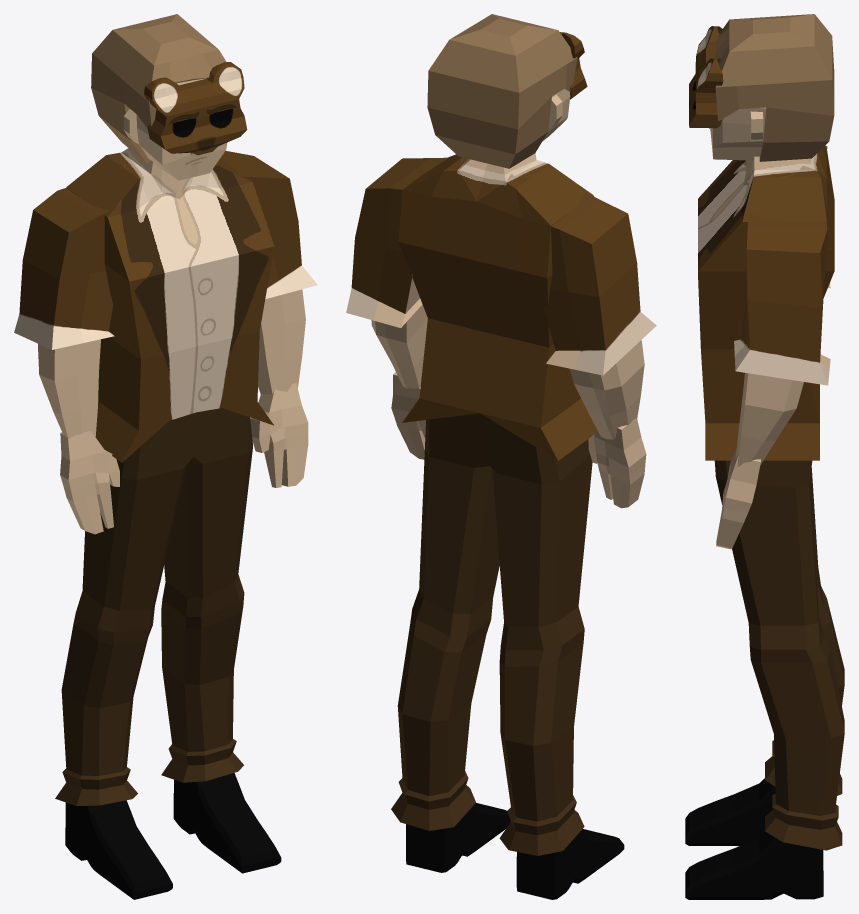
Rendered from Bearfull.fbx.
3 views of the same model, side by side, from view 1: azimuth 30°, elevation 25°; view 2: azimuth 150°, elevation 25°; view 3: azimuth 270°, elevation 25° (orthographic). The views are drawn at different scales.
Visible parts, largest first — view 1: Cube.005, Cube.006, Cube.008, Cube.003, Cube.001, Cube, Cube.004; view 2: Cube.005, Cube.006, Cube.008, Cube.001, Cube.003, Cube, Cube.004; view 3: Cube.005, Cube.006, Cube.008, Cube.001, Cube.003, Cube, Cube.004.
Boxes of the visible parts, box(x1,y1,x2,y2) form: Cube.005: box(55, 408, 252, 805); Cube.006: box(66, 148, 274, 462); Cube.008: box(14, 150, 317, 534); Cube.003: box(65, 773, 281, 899); Cube.001: box(91, 14, 226, 163); Cube: box(144, 62, 247, 155); Cube.004: box(123, 78, 226, 180); Cube.005: box(391, 413, 592, 855); Cube.006: box(398, 153, 596, 460); Cube.008: box(346, 157, 656, 508); Cube.001: box(427, 14, 577, 168); Cube.003: box(406, 803, 624, 899); Cube: box(560, 32, 587, 99); Cube.004: box(542, 89, 570, 141); Cube.005: box(714, 460, 844, 850); Cube.006: box(698, 146, 834, 460); Cube.008: box(716, 145, 830, 549); Cube.001: box(715, 14, 834, 161); Cube.003: box(685, 778, 823, 899); Cube: box(689, 26, 723, 128); Cube.004: box(709, 107, 766, 160).
Bounding box in the file's own units: 96.76 × 285 × 49.08.
